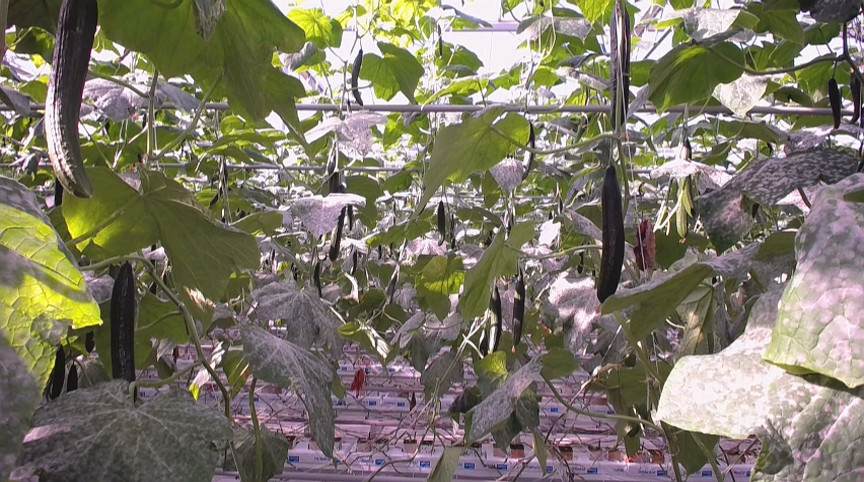cucumber: (44, 1, 97, 200), (598, 167, 625, 300), (111, 262, 136, 384), (488, 287, 503, 357), (511, 273, 525, 345)
